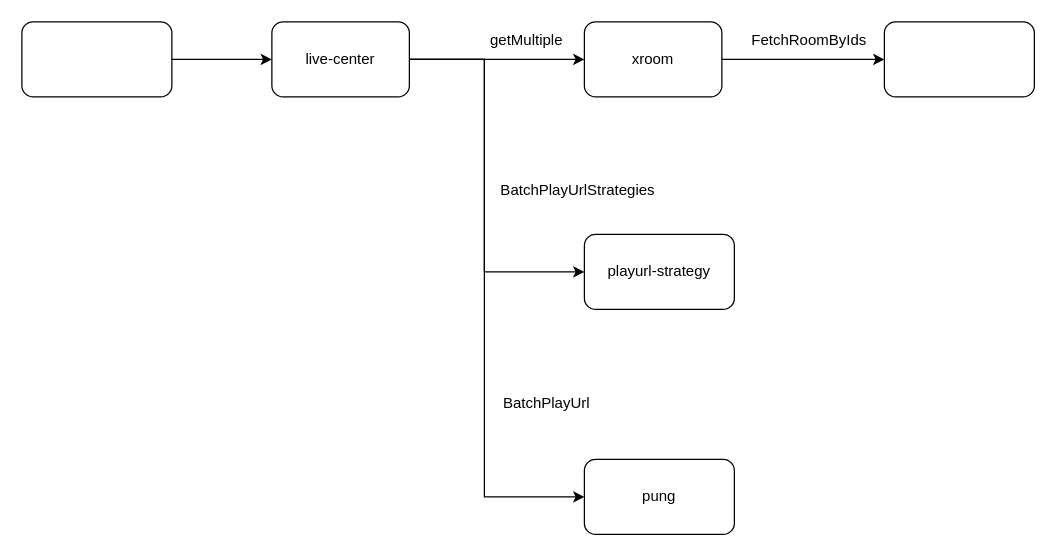
Image size: 1056x556. Some labels were removed from this diagram. Each missing label, with the box of its shape:
dao-anchor: (883, 21, 1034, 97)
tab页网关: (21, 21, 172, 97)
